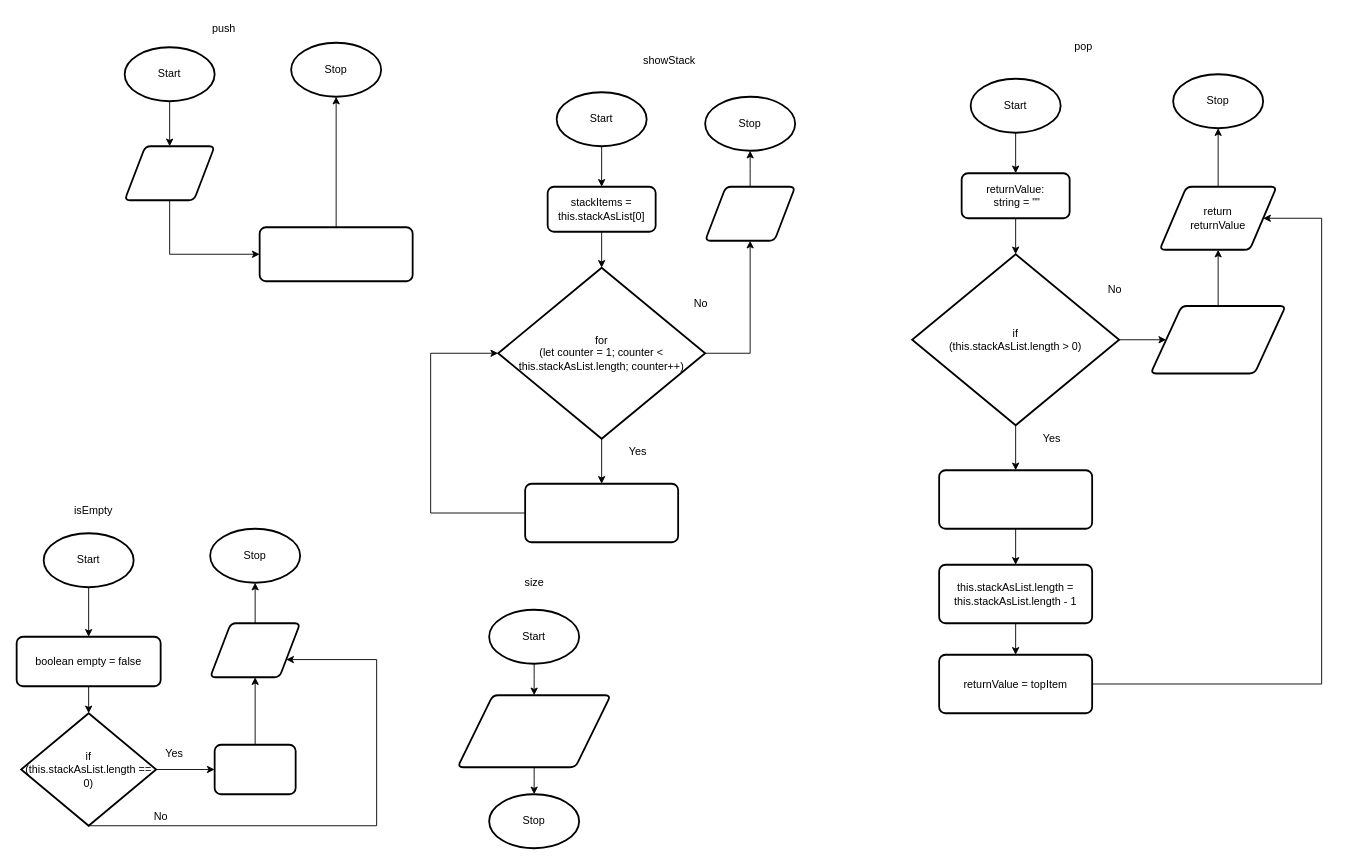
This 1345x864 diagram has some shape labels left out. Each missing label, with the box of its shape:
empty = true: (213, 743, 296, 795)
return empty: (209, 622, 301, 678)
return stackItems: (704, 185, 796, 241)
return this.stackAsList.length: (456, 694, 611, 768)
returnValue = "The stacks is empty!": (1149, 305, 1286, 374)
Set stringPushed: (123, 145, 215, 201)
stackItems = stackItems + ", " + this.stackAsList[counter]: (524, 482, 679, 543)
this.stackAsList.push(string): (258, 226, 413, 282)
topItem = this.stackAsList [this.stackAsList.length - 1]: (938, 469, 1093, 529)
